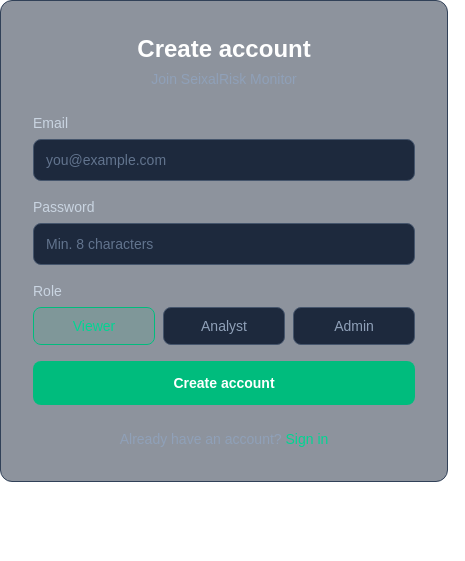
Scenario: RegisterPage › shows generic error message when error is not an Error instance
Type "taken@example.com" into the field labelled "Email" at (224, 160), box [33,139,415,181]
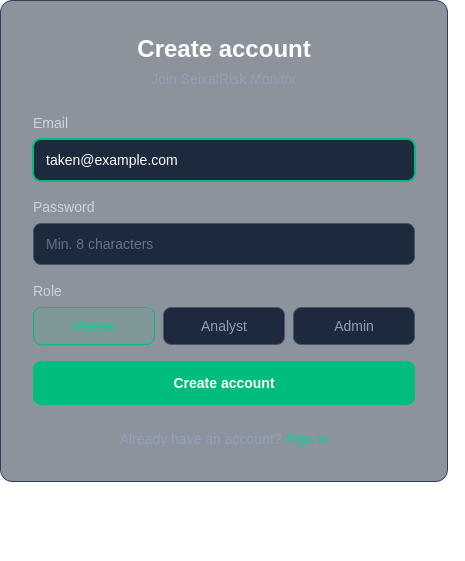
Type "password123" into the password field labelled "Password" at (224, 244), box [33,223,415,265]
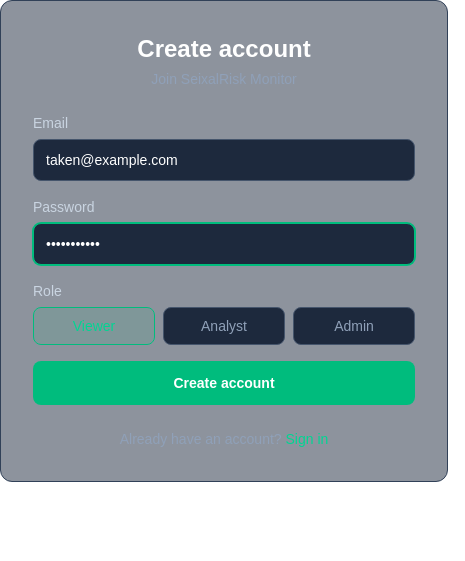
Click the button "Create account" at (224, 383), box [33,361,415,405]
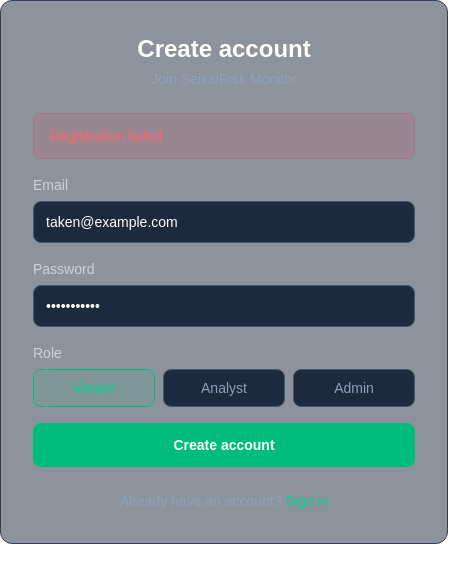
expect the text "Registration failed" is shown: met, box [33,113,415,159]
